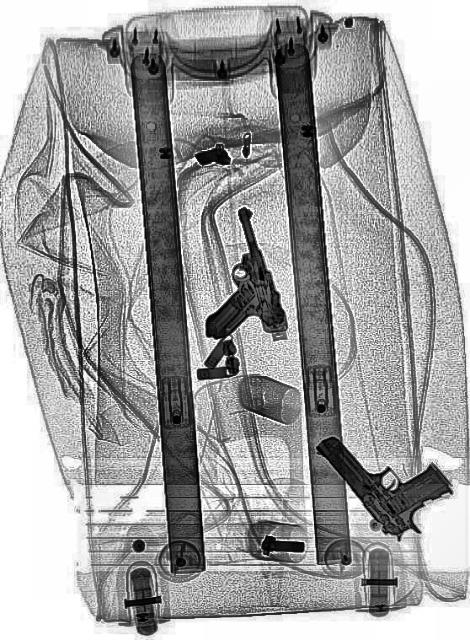Gun: (313, 381, 455, 557), (175, 202, 287, 356)
